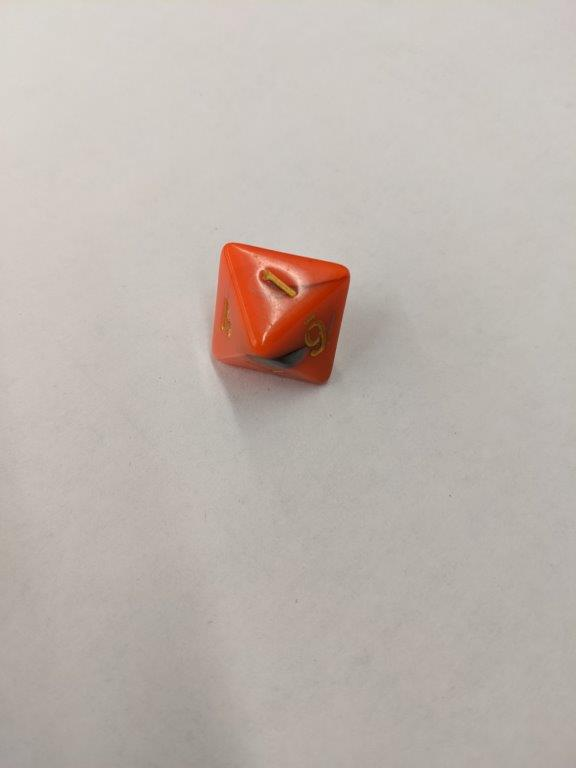d8-1: (206, 239, 353, 387)
